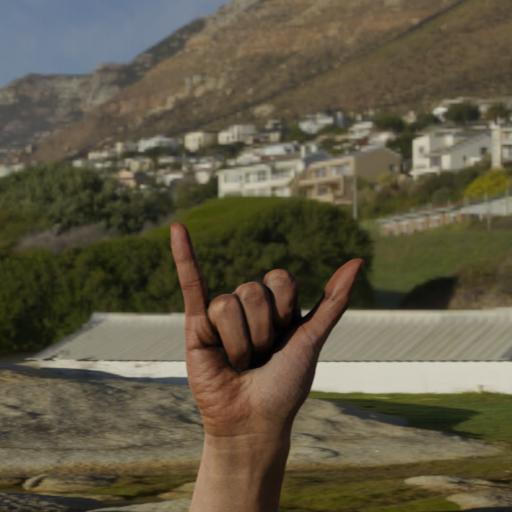Y: (159, 218, 370, 512)
